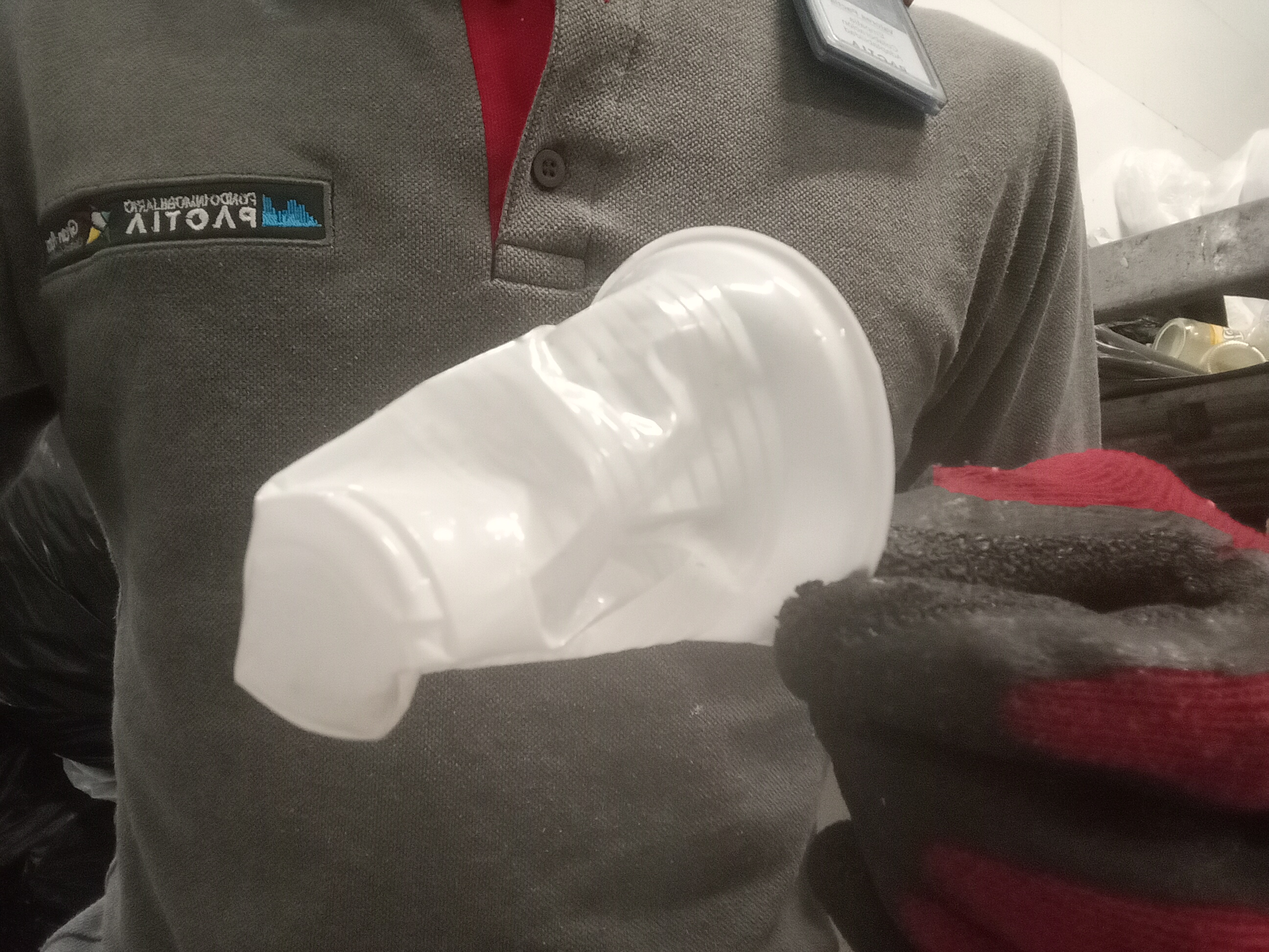Plastico: (232, 224, 896, 742)
